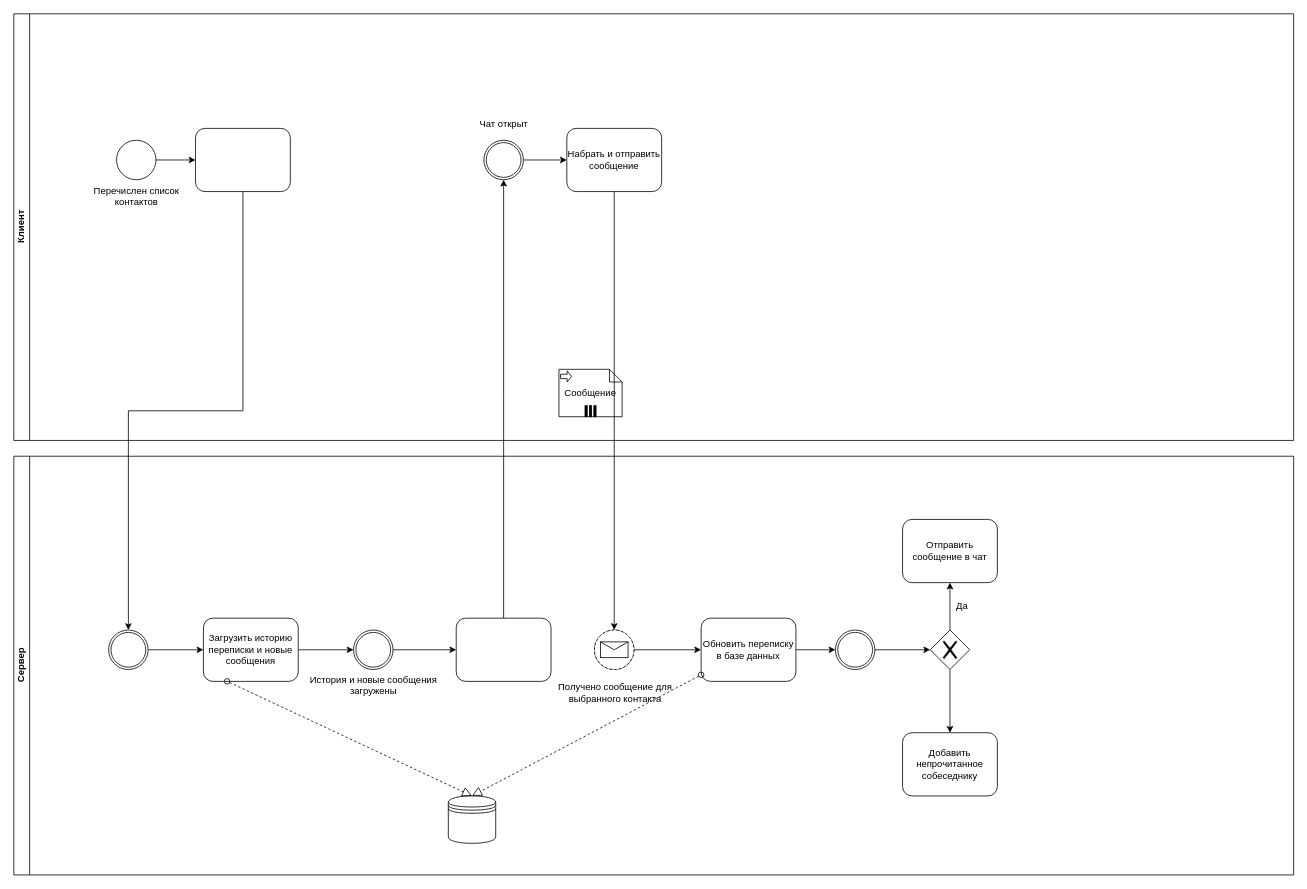
The diagram is 1307 pixels wide and 889 high, and some of its shapes have lost their labels. Here are the shapes that lost their labels. From the top down, the centre of each, then its label:
At (242,160): "Выбрать контакт, с которым требуется открыть чат".
At (128,649): "Выбран контакт".
At (503,649): "Отправить новые сообщения и 5 последних старых".
At (855,649): "Переписка обновлена".
At (949,649): "У собеседника открыт чат?".
